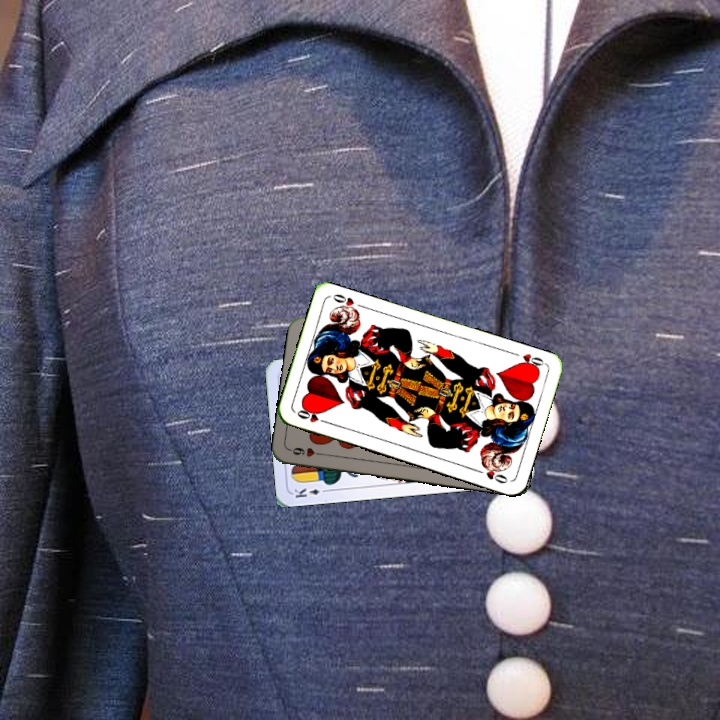EK: (290, 484, 331, 500)
H9: (286, 443, 327, 459)
HO: (508, 348, 548, 373), (293, 405, 331, 426)
